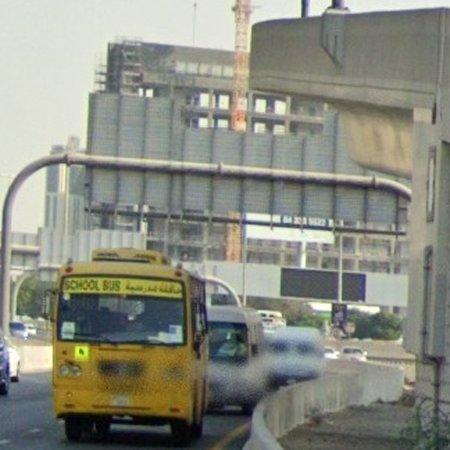buses: (52, 251, 208, 445)
